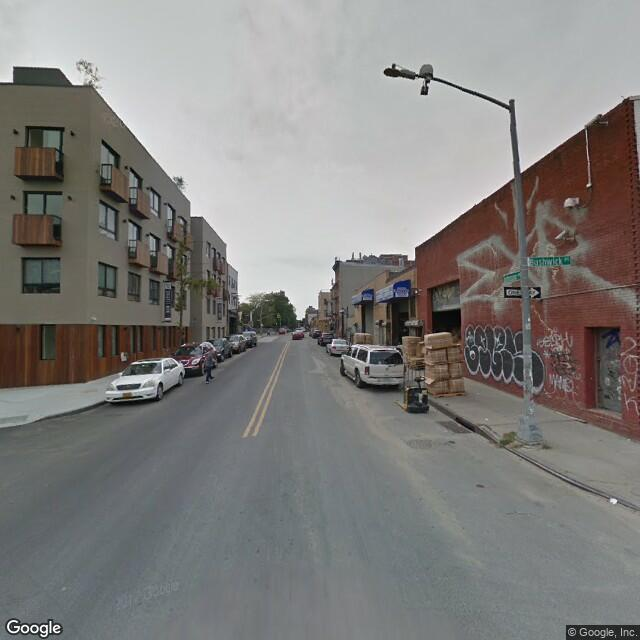litter: (608, 493, 620, 508), (58, 583, 70, 593), (480, 416, 491, 424), (623, 437, 632, 443), (473, 390, 480, 396)
